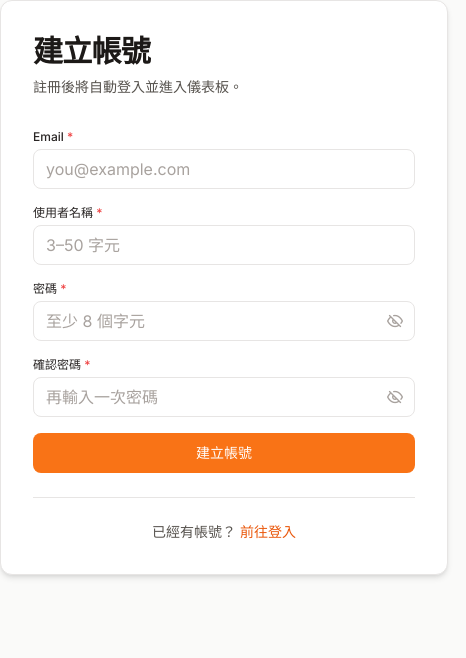
Scenario: RegisterView › 註冊 API 失敗（detail）：顯示後端通用錯誤訊息、不導頁
The image size is (466, 658).
Type "dup@b.com" into the field labelled "Email *" at (224, 169), box [33, 149, 415, 189]
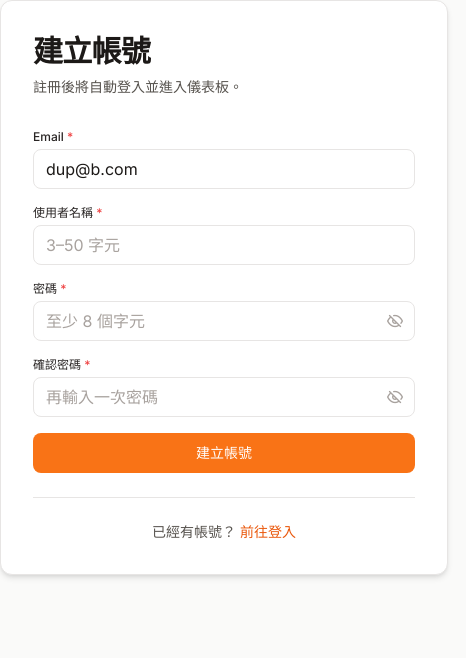
Type "alice" into the field named "username" at (224, 245), box [33, 225, 415, 265]
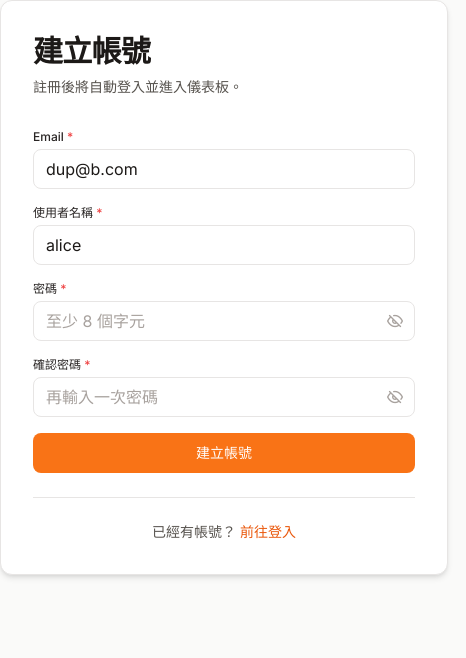
Type "StrongPwd1" into the password field named "password" at (224, 321), box [33, 301, 415, 341]
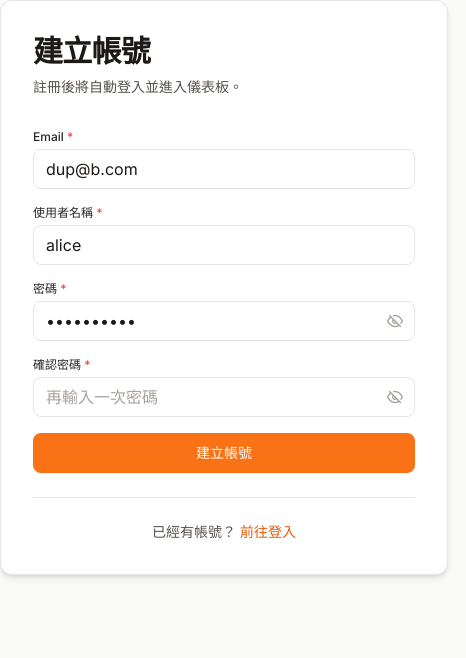
Type "StrongPwd1" into the password field named "confirmPassword" at (224, 397), box [33, 377, 415, 417]
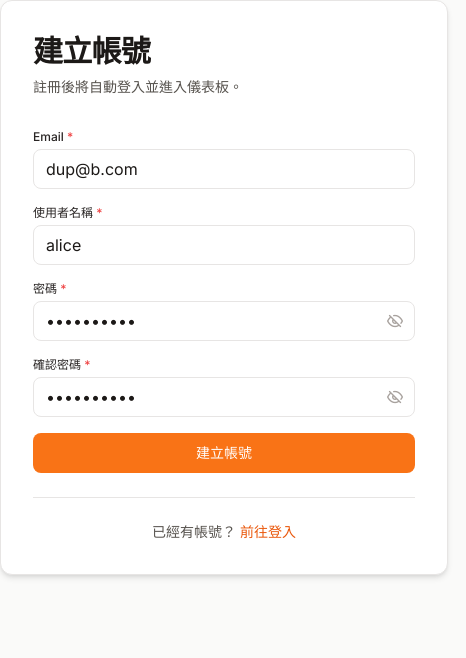
Submit the form, box [33, 129, 415, 473]
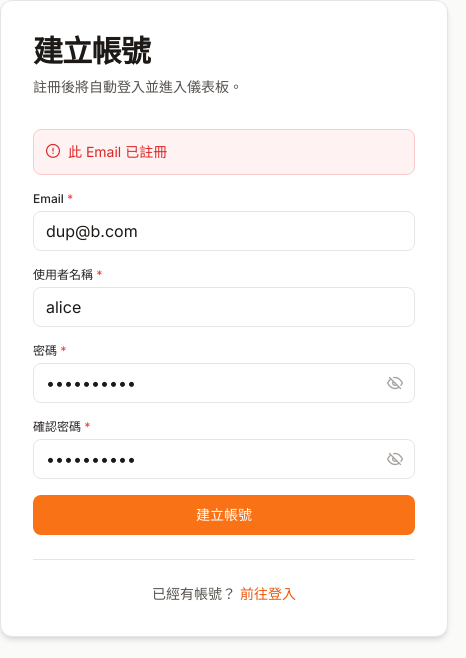
Result: the text "此 Email 已註冊" is shown at [33, 129, 415, 175]
